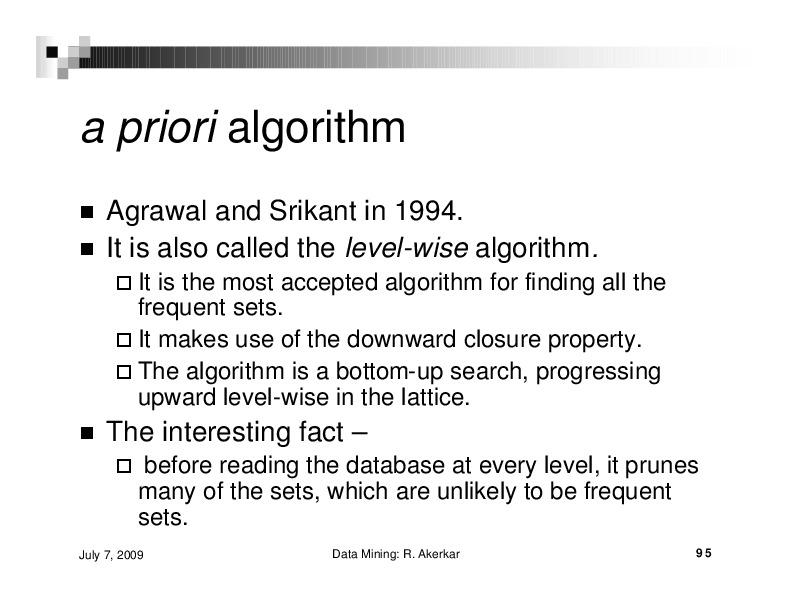paragraph: (73, 191, 746, 537)
subtitle: (57, 533, 740, 565)
title: (74, 97, 425, 166)
